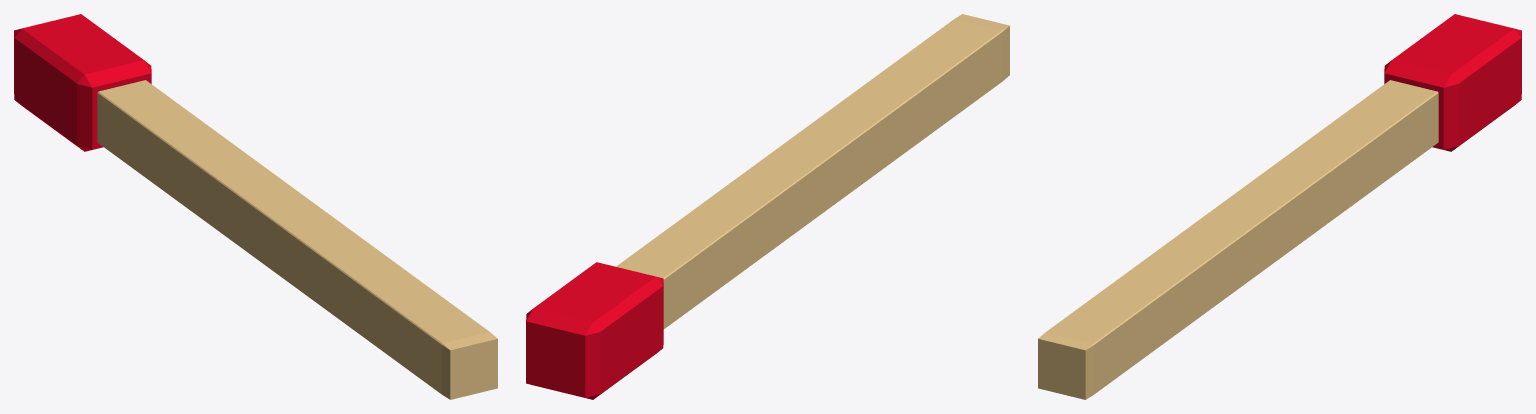
The picture shows the model from 3 angles, left to right: view 1: azimuth 30°, elevation 25°; view 2: azimuth 150°, elevation 25°; view 3: azimuth 330°, elevation 25°; orthographic projection.
Visible parts, largest first — view 1: Cube, Cube.001; view 2: Cube, Cube.001; view 3: Cube, Cube.001.
Boxes of the visible parts, x1,y1,x2,y2 form: Cube: [97, 80, 497, 399]; Cube.001: [14, 14, 151, 151]; Cube: [616, 14, 1009, 329]; Cube.001: [526, 262, 663, 399]; Cube: [1038, 80, 1438, 399]; Cube.001: [1384, 14, 1521, 151].
Size of the model in its own units: 120 by 120 by 1210.
